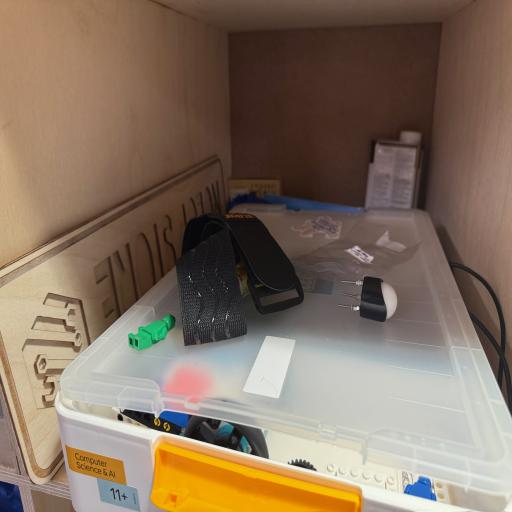Lego-Dude: (128, 314, 175, 350)
